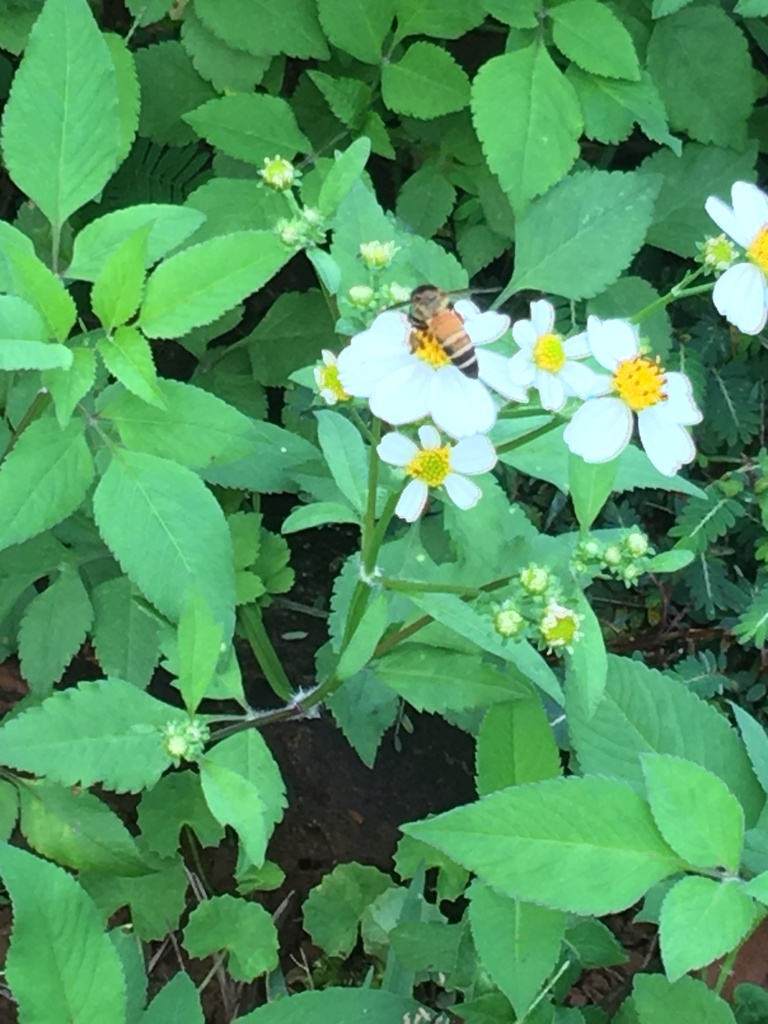not_bumblebee: (385, 281, 499, 379)
